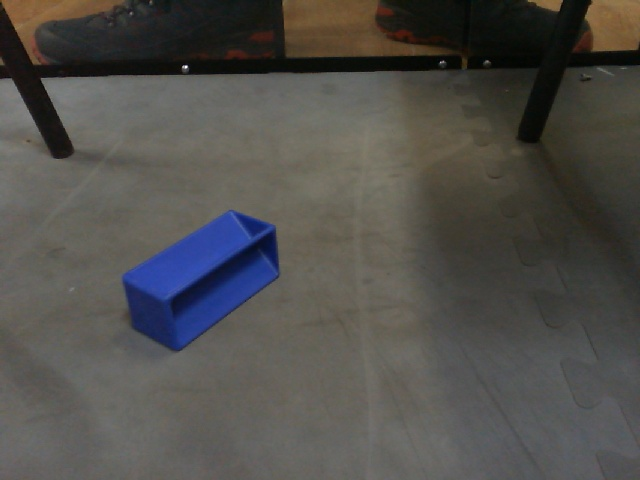BlueSample: (114, 208, 287, 355)
